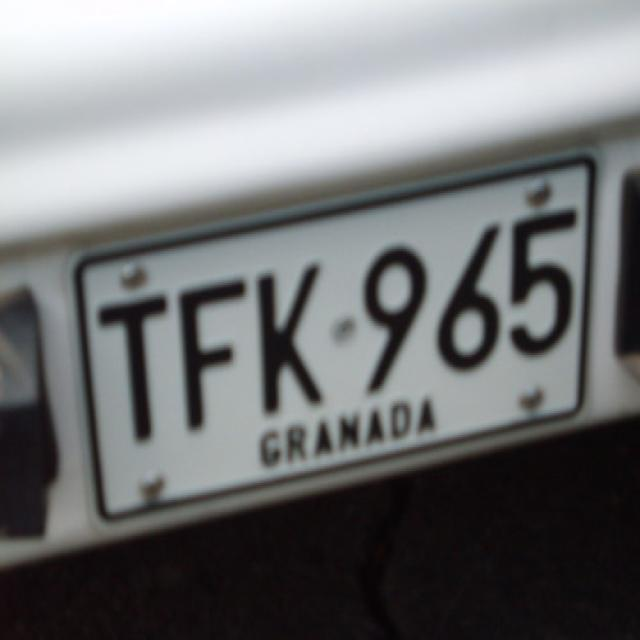placas: (89, 186, 590, 465)
